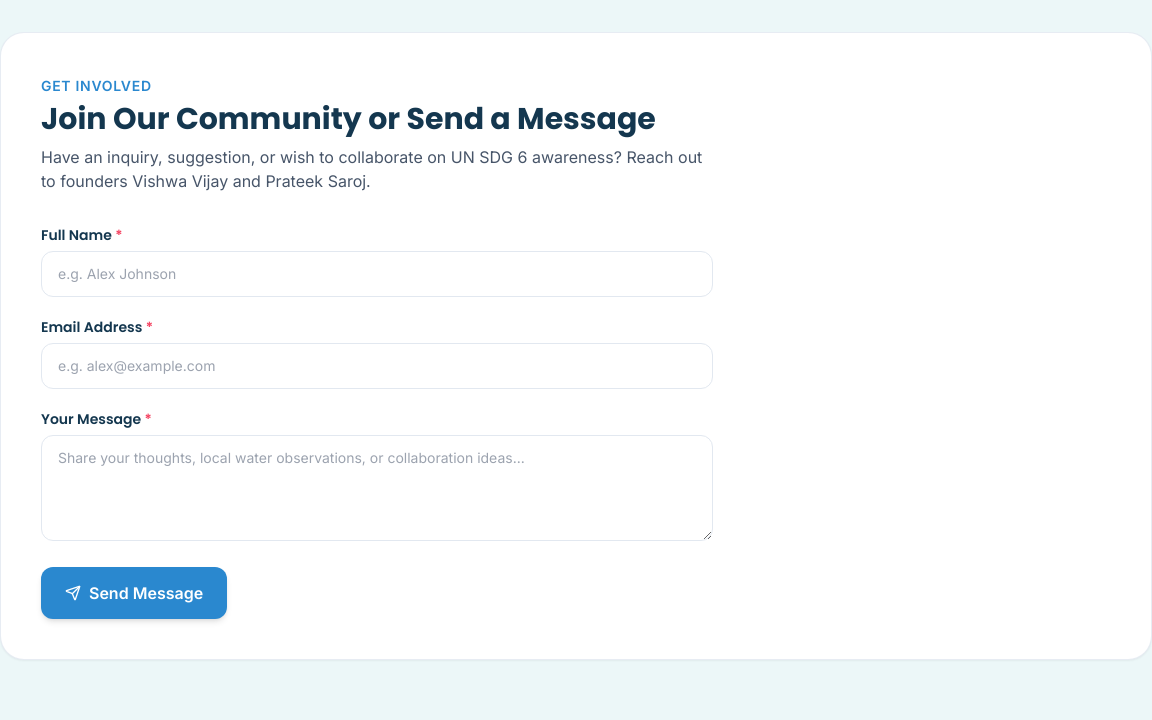
Test: ContactForm Component › shows validation error messages when submitted empty
Click the button "Send Message": (134, 593) [41,567,227,619]
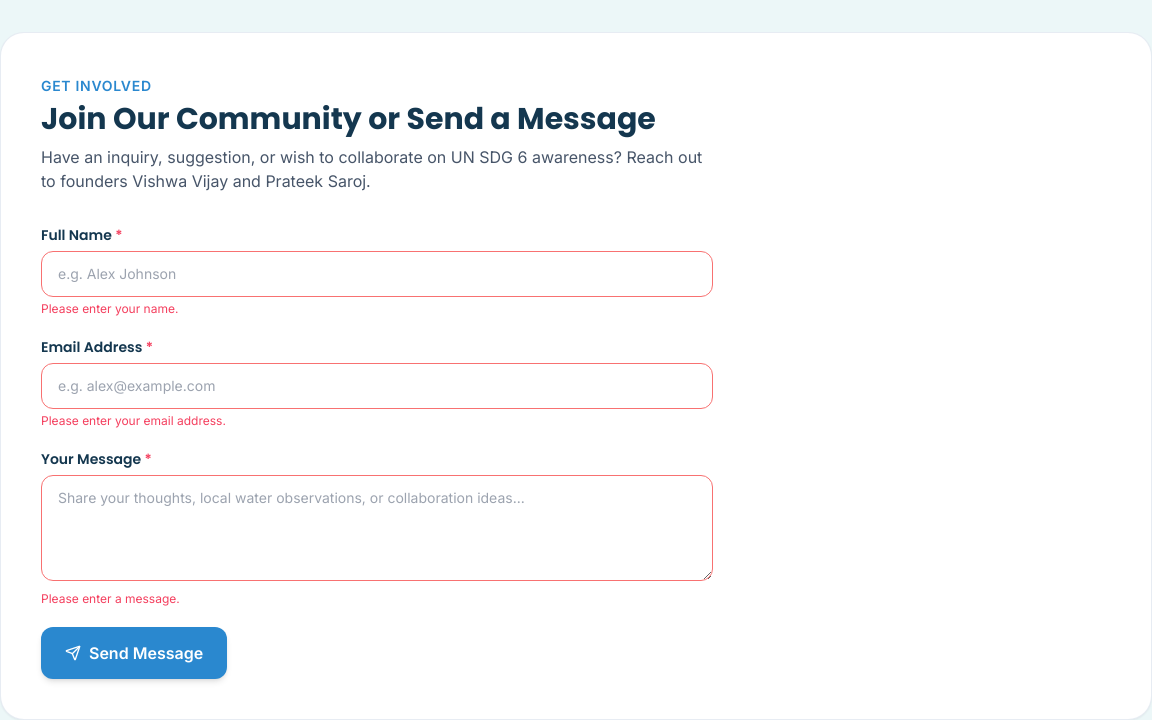
Check: the text "Please enter your name." is shown, box [41,301,178,316]
Check: the text "Please enter your email address." is shown, box [41,413,226,428]
Check: the text "Please enter a message." is shown, box [41,591,180,606]
